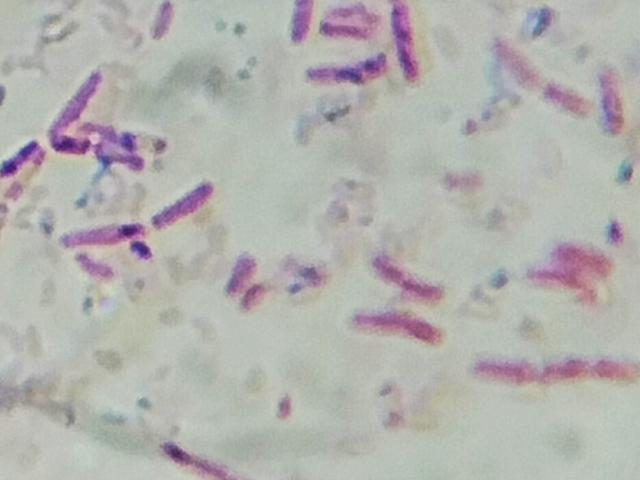E. coli: (492, 43, 589, 118), (475, 353, 640, 394), (353, 297, 437, 339), (311, 52, 390, 95), (389, 5, 425, 92), (375, 252, 442, 296), (149, 180, 217, 223), (55, 74, 107, 129), (592, 62, 630, 135), (161, 433, 224, 477), (533, 263, 607, 299), (82, 119, 166, 149), (59, 137, 143, 167), (59, 219, 147, 243), (325, 5, 377, 41), (556, 245, 610, 275), (1, 135, 34, 181), (288, 0, 311, 53), (75, 249, 112, 281), (223, 250, 254, 288), (238, 279, 266, 314)
